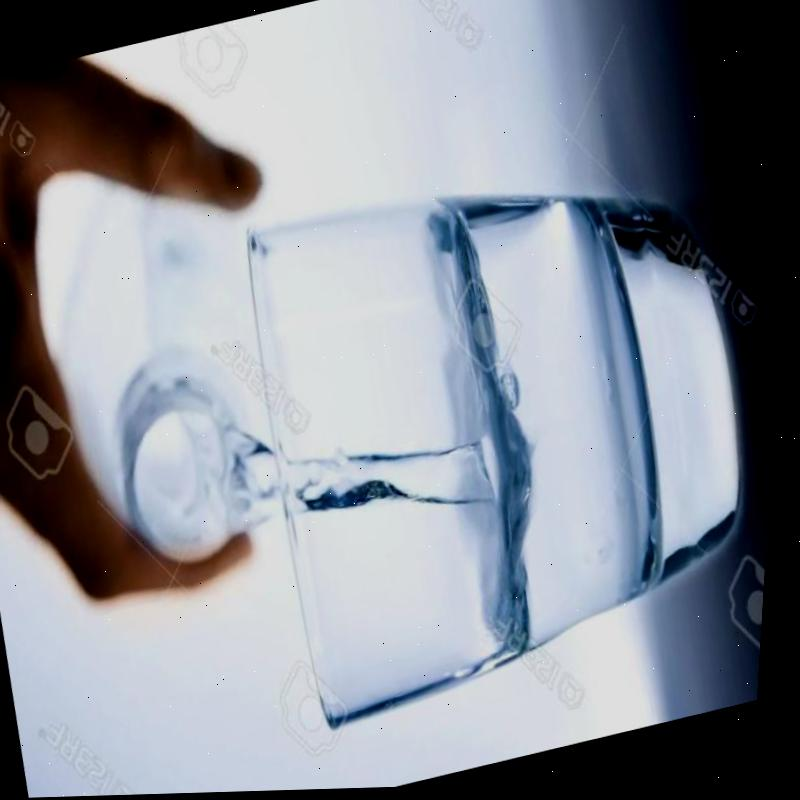botella: (11, 161, 294, 594)
